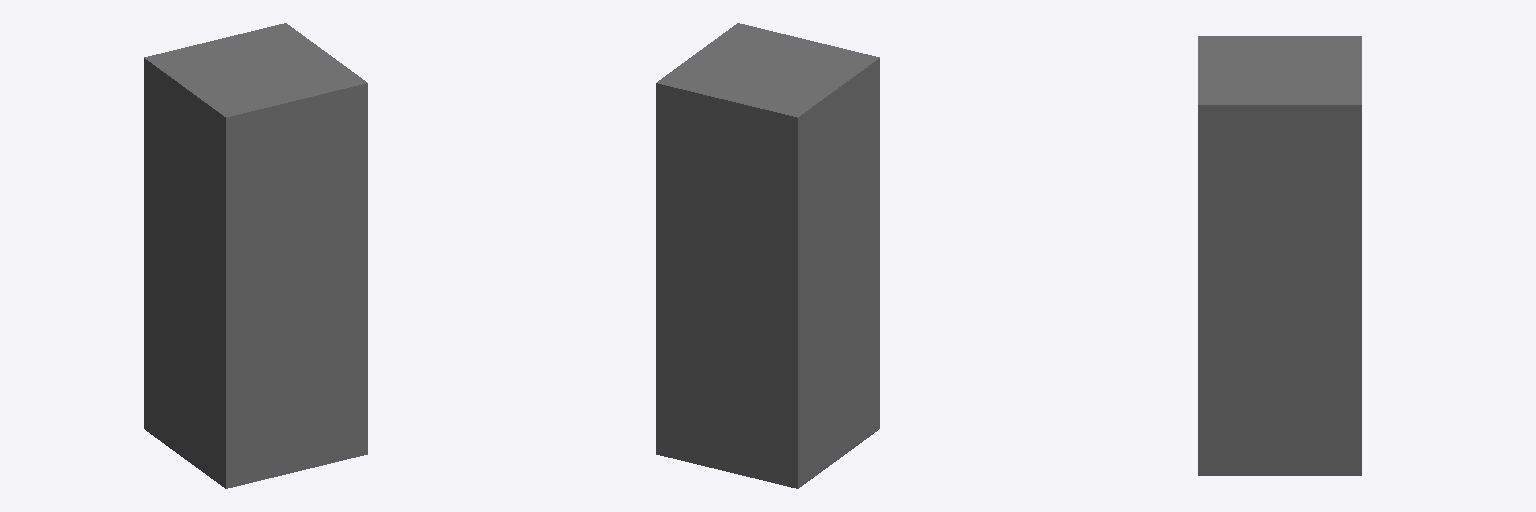
File: glassWindow2.obj
The picture shows the model from 3 angles: view 1: azimuth 30°, elevation 25°; view 2: azimuth 150°, elevation 25°; view 3: azimuth 270°, elevation 25°; orthographic projection.
Visible parts, largest first — view 1: pCube8, pCube9; view 2: pCube8, pCube9; view 3: pCube8, pCube9.
Part boxes in pixels (x1,y1,x2,y2): pCube8: (144, 23, 367, 477); pCube9: (144, 418, 367, 488); pCube8: (656, 23, 879, 487); pCube9: (656, 418, 879, 488); pCube8: (1198, 36, 1361, 474); pCube9: (1198, 465, 1361, 475).
Size of the model in its own units: 6.04 by 15.07 by 6.04.